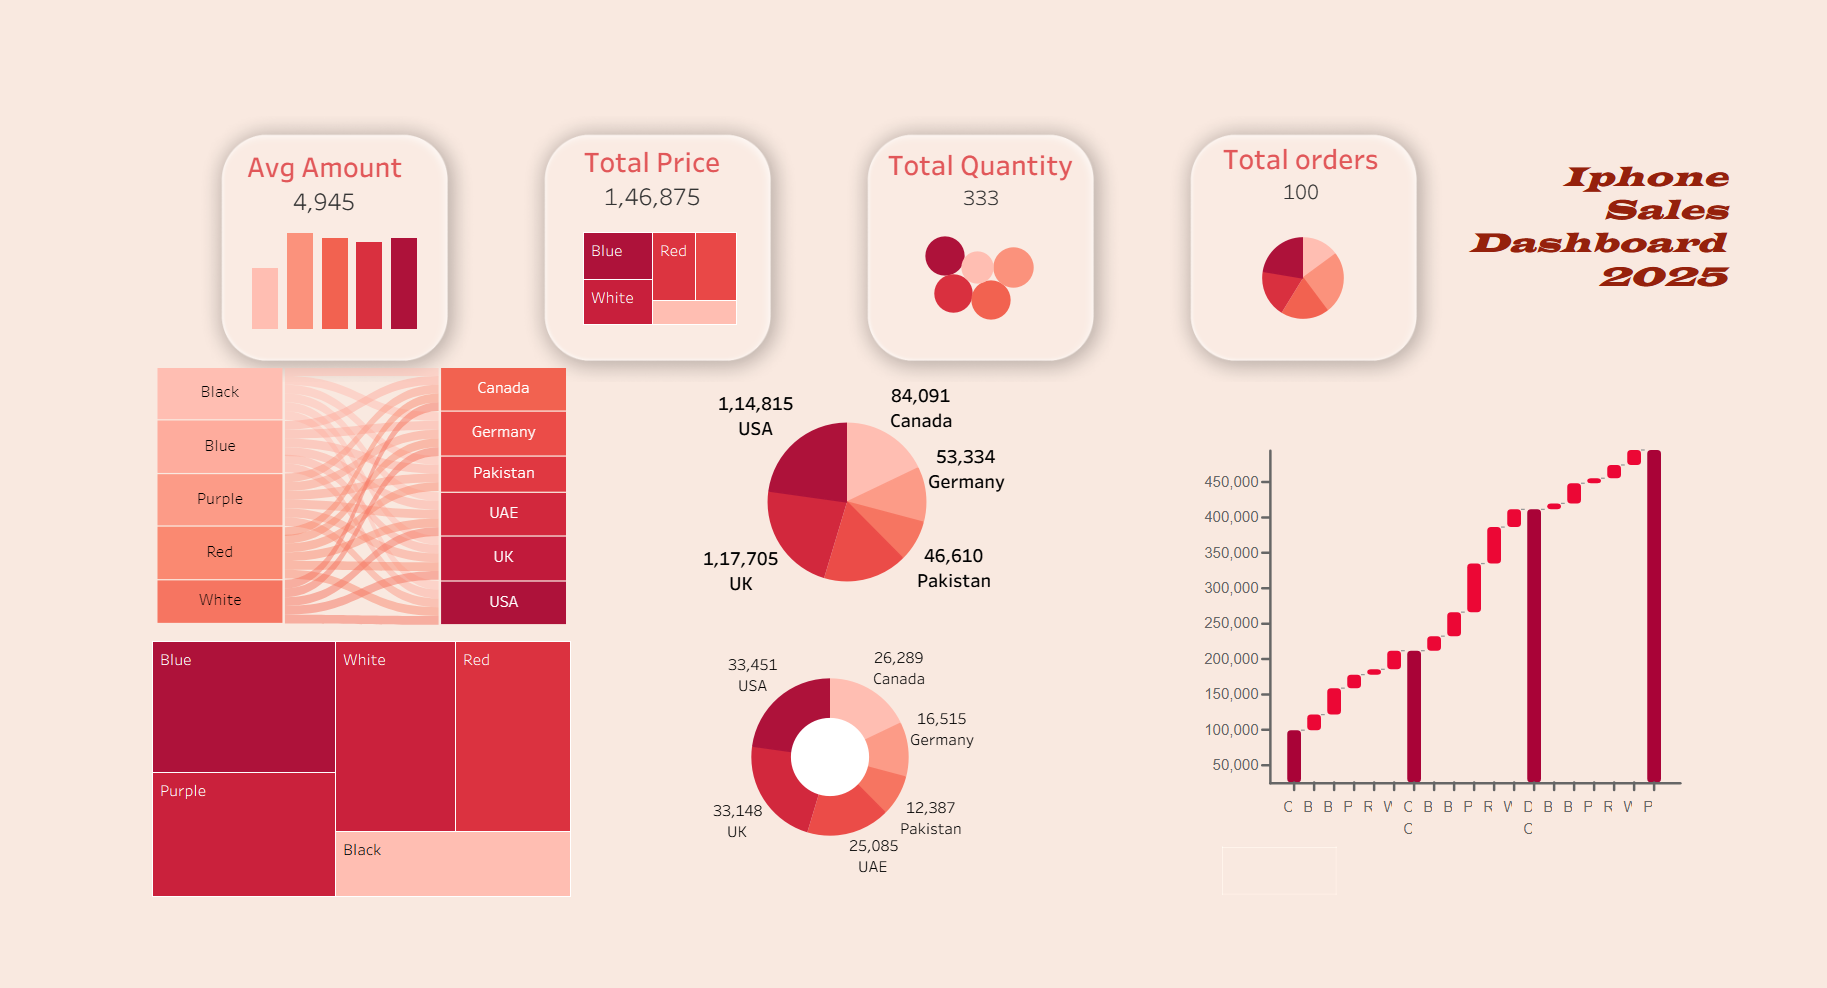

The dashboard page shown, as its layout file describes it:
{"tool":"tableau","page":{"name":"Dashboard 2","canvas":[1600,800],"ordinal":1},"visuals":[{"type":"text","box":[1314,8,278,230]},{"type":"worksheet","title":"Sheet 12","mark":"Shape","box":[28,11.3,322.5,266]},{"type":"worksheet","title":"Sheet 12 (2)","mark":"Shape","box":[351,11.5,323,265.6]},{"type":"worksheet","title":"Sheet 12 (3)","mark":"Shape","box":[674,11.5,323,265.6]},{"type":"worksheet","title":"Sheet 12 (4)","mark":"Shape","box":[997,11.5,323,265.6]},{"type":"worksheet","title":"Sheet 13 (4)","mark":"Automatic","box":[1064,36.5,182,121.9]},{"type":"worksheet","title":"Sheet 19","mark":"Automatic","box":[426,37.5,171,80.2]},{"type":"worksheet","title":"Sheet 13 (2)","mark":"Automatic","box":[734,41.7,214,72.9]},{"type":"worksheet","title":"Sheet 13","mark":"Automatic","box":[87.8,42.7,265.9,137.5]},{"type":"worksheet","title":"Sheet 14 (4)","mark":"Pie","box":[1067,106.2,178,134.4]},{"type":"worksheet","title":"Sheet 14 (3)","mark":"Circle","box":[777,117.7,131,110.4]},{"type":"worksheet","title":"Sheet 14","mark":"Automatic","rows":["Quantity"],"cols":["Color"],"box":[100.7,122.9,173.4,101]},{"type":"worksheet","title":"Sheet 14 (2)","mark":"Automatic","box":[432,122.9,173,101]},{"type":"worksheet","title":"Sheet 25","box":[8,263,415,258]},{"type":"worksheet","title":"Sheet 30","mark":"Pie","box":[457,269,486,256]},{"type":"worksheet","title":"Sheet 29","box":[1049,270,533,525]},{"type":"worksheet","title":"Sheet 31","mark":"Pie","rows":["Calculation_1755095554334728","Calculation_1755095554334728"],"box":[457,519,452,266]},{"type":"worksheet","title":"Sheet 26","mark":"Automatic","box":[1,532,426,272]},{"type":"image","param":"Image/Screenshot 2026-05-10 170147.png","box":[1074,741,188,49]}]}

Visuals, with their boxes on the page's 1600x800 design canvas (x1, y1, x2, y2). These are canvas units, not pixel positions in the 1827x988 screenshot, which may show the page scaled, cropped or inside an application window:
text: [1314, 8, 1592, 238]
"Sheet 12" worksheet (Shape marks): [28, 11, 350, 277]
"Sheet 12 (2)" worksheet (Shape marks): [351, 12, 674, 277]
"Sheet 12 (3)" worksheet (Shape marks): [674, 12, 997, 277]
"Sheet 12 (4)" worksheet (Shape marks): [997, 12, 1320, 277]
"Sheet 13 (4)" worksheet: [1064, 36, 1246, 158]
"Sheet 19" worksheet: [426, 38, 597, 118]
"Sheet 13 (2)" worksheet: [734, 42, 948, 115]
"Sheet 13" worksheet: [88, 43, 354, 180]
"Sheet 14 (4)" worksheet (Pie marks): [1067, 106, 1245, 241]
"Sheet 14 (3)" worksheet (Circle marks): [777, 118, 908, 228]
"Sheet 14" worksheet: [101, 123, 274, 224]
"Sheet 14 (2)" worksheet: [432, 123, 605, 224]
"Sheet 25" worksheet: [8, 263, 423, 521]
"Sheet 30" worksheet (Pie marks): [457, 269, 943, 525]
"Sheet 29" worksheet: [1049, 270, 1582, 795]
"Sheet 31" worksheet (Pie marks): [457, 519, 909, 785]
"Sheet 26" worksheet: [1, 532, 427, 804]
image: [1074, 741, 1262, 790]
